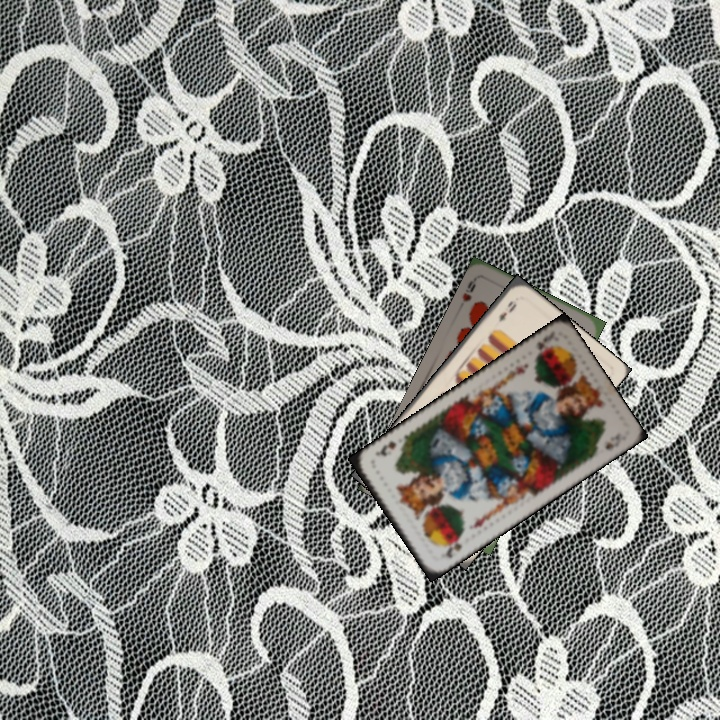E9: (494, 297, 519, 325)
H9: (458, 274, 479, 304)
SK: (436, 532, 465, 561), (530, 334, 550, 361)
